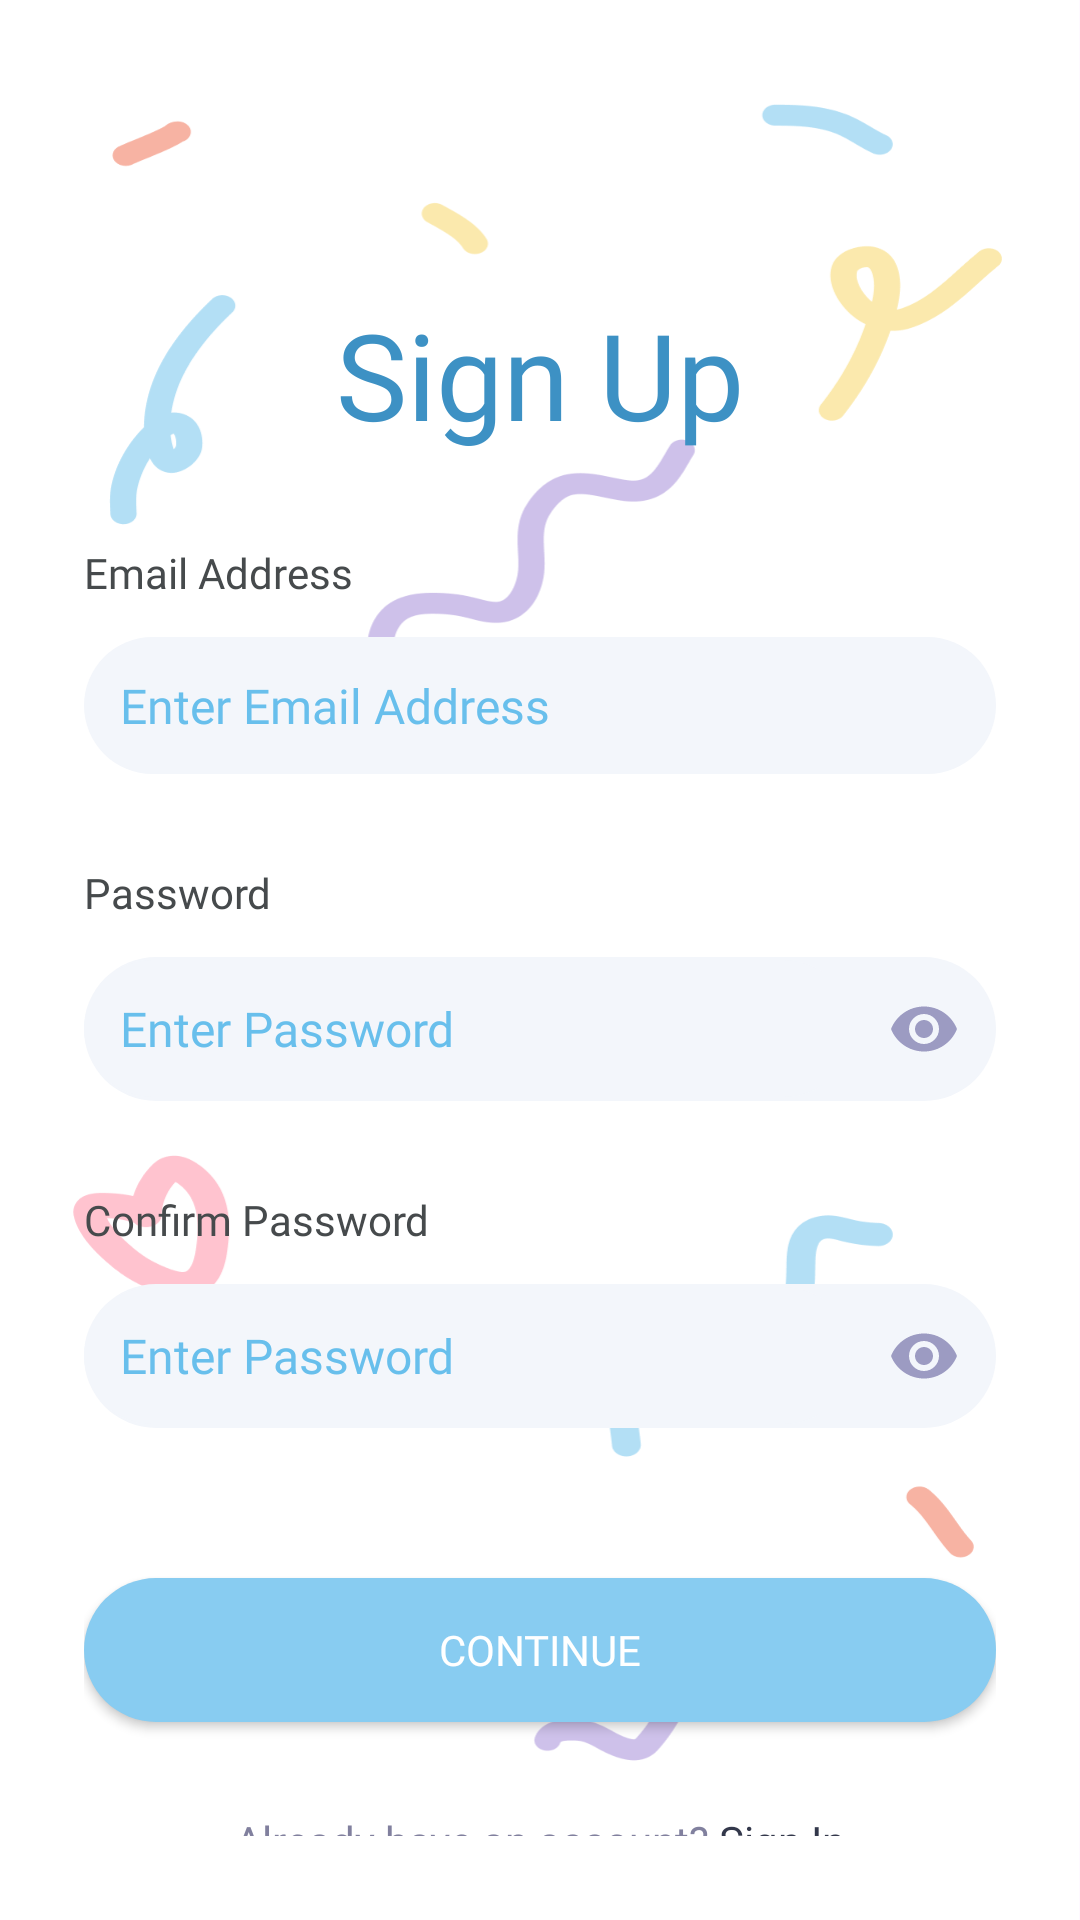

Named icons in this screenshot (1080w x 1920h) and their bounding boxes, (x1, y1, x2, y2):
eye: (891, 1006, 957, 1052), (891, 1333, 957, 1379)
